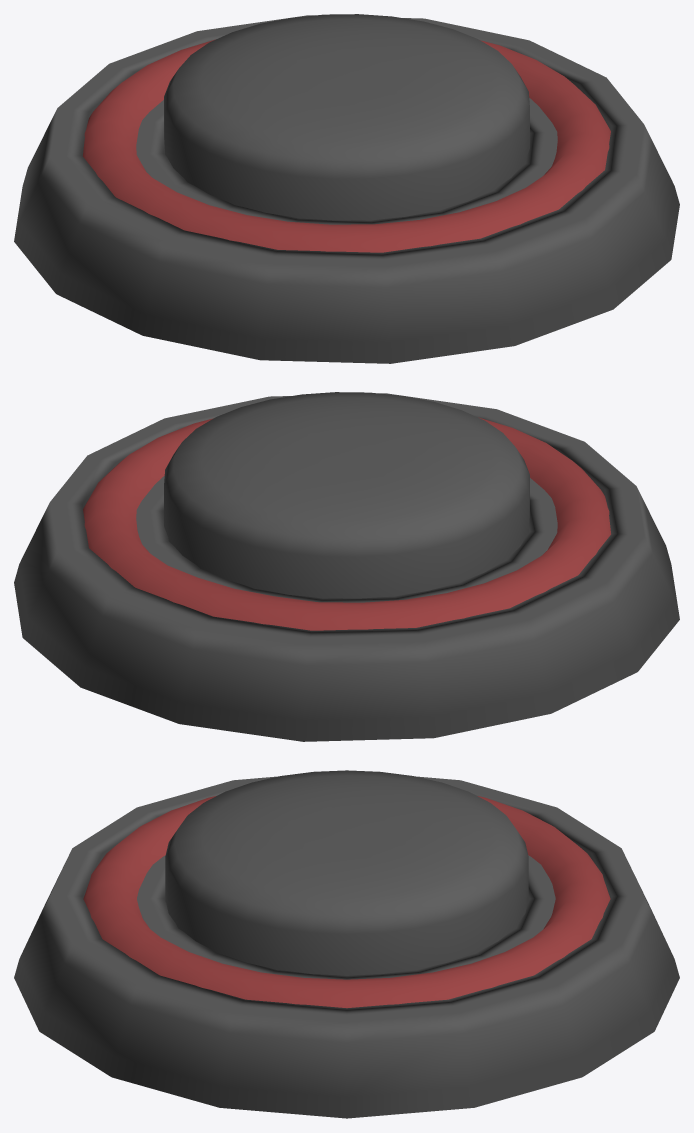
The model's file is Button.fbx.
3 views of the same model, one above another, from view 1: azimuth 30°, elevation 25°; view 2: azimuth 150°, elevation 25°; view 3: azimuth 270°, elevation 25° (orthographic).
Parts seen in each view (by area): view 1: Collar, Button, Emissive; view 2: Collar, Button, Emissive; view 3: Collar, Button, Emissive.
Boxes of the visible parts, x1=… form: Collar: x1=14, y1=15, x2=679, y2=363; Button: x1=164, y1=14, x2=529, y2=220; Emissive: x1=83, y1=39, x2=610, y2=252; Collar: x1=14, y1=393, x2=679, y2=741; Button: x1=164, y1=392, x2=529, y2=598; Emissive: x1=83, y1=417, x2=610, y2=630; Collar: x1=14, y1=776, x2=679, y2=1118; Button: x1=165, y1=770, x2=528, y2=975; Emissive: x1=83, y1=796, x2=610, y2=1008.
Size of the model in its own units: 0.3362 by 0.0809 by 0.3362.
